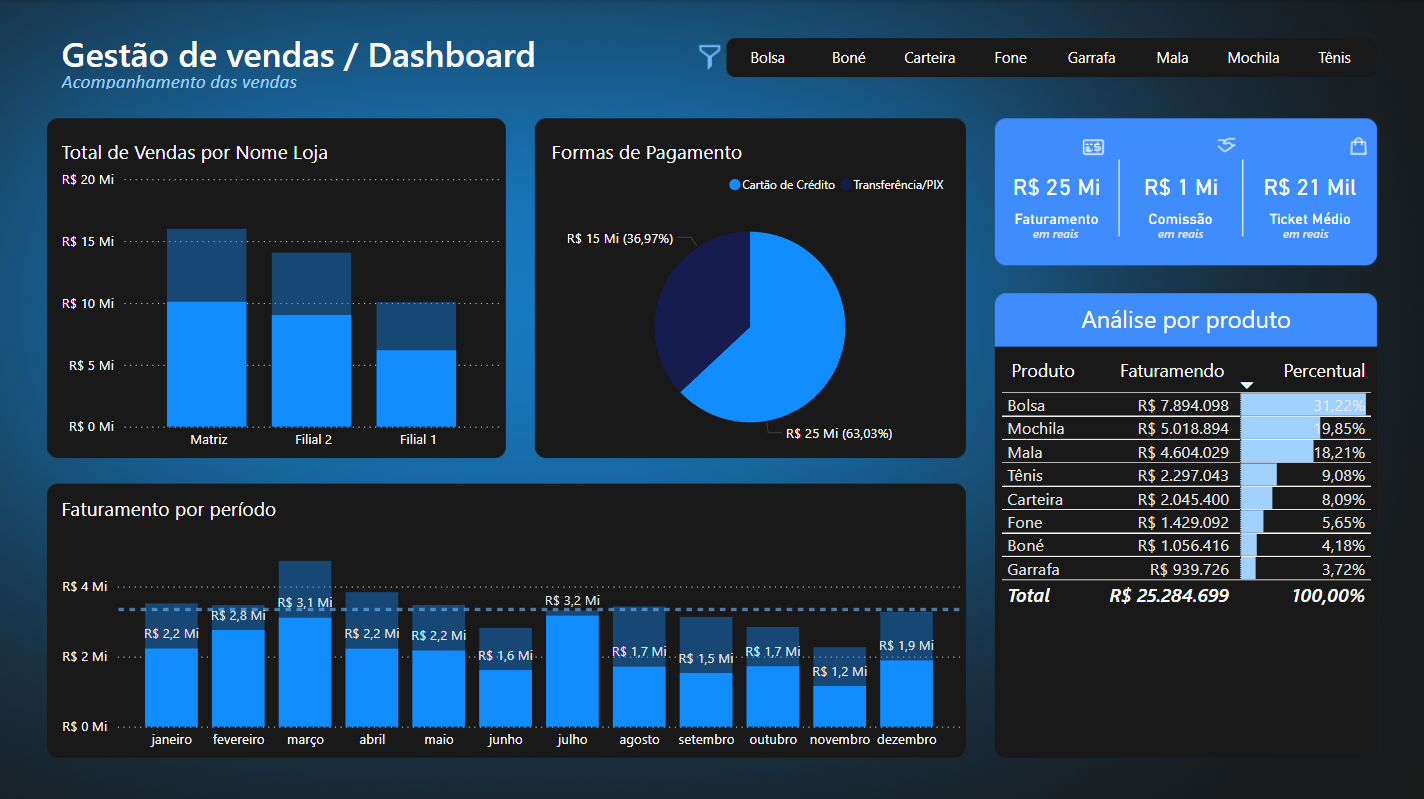

What the dashboard file says about the page in this screenshot:
{"tool":"powerbi","page":{"name":"Página 1","canvas":[1280,720],"ordinal":0},"visuals":[{"type":"card","fields":{"Values":["Sum(registroVendas.Total de Vendas)"]},"box":[892.4,150.8,112.2,34.1],"z":0},{"type":"card","fields":{"Values":["Avg(registroVendas.Total de Vendas)"]},"box":[1115.9,150.8,120.3,34.1],"z":1000},{"type":"clusteredColumnChart","title":"Faturamento por período","fields":{"Y":["Sum(registroVendas.Total de Vendas)"],"Category":["registroVendas.Data Pedido.Variation.Hierarquia de datas.Mês"]},"box":[50.3,444.4,817,237.9],"z":2000},{"type":"pieChart","title":"Formas de Pagamento","fields":{"Y":["Sum(registroVendas.Total de Vendas)"],"Category":["Vendas.Pagamento"]},"box":[490.2,123.9,366.3,289.1],"z":3000},{"type":"columnChart","title":" Total de Vendas por Nome Loja","fields":{"Category":["Lojas.Nome Loja"],"Y":["Sum(Vendas.Total de Vendas)"]},"box":[50.3,123.9,405.8,289.1],"z":4000},{"type":"tableEx","fields":{"Values":["Vendas.Produto","Sum(Vendas.Total de Vendas)","Divide(Sum(Vendas.Total de Vendas), ScopedEval(Sum(Vendas.Total de Vendas), []))"]},"box":[893.3,316,342.9,255.9],"z":5000},{"type":"slicer","fields":{"Values":["Vendas.Produto"]},"box":[660,36.8,600.6,27.8],"z":6000},{"type":"textbox","title":"Gestão de vendas / Dashboard","box":[50,27,511.7,49.4],"z":7000},{"type":"textbox","title":"Acompanhamento das vendas","box":[50.3,62,238.8,18],"z":8000},{"type":"card","fields":{"Values":["Vendas.Comissão"]},"box":[1004.6,150.8,111.3,34.1],"z":9000},{"type":"textbox","title":"Faturamento","box":[892.4,189.4,112.2,18.9],"z":10000},{"type":"textbox","title":"Comissão","box":[1003.7,189.4,112.2,18.9],"z":11000},{"type":"textbox","title":"Ticket Médio","box":[1115.9,189.4,120.3,18.9],"z":12000},{"type":"textbox","title":"em reais","box":[891.5,202,112.2,12.6],"z":13000},{"type":"textbox","title":"em reais","box":[1003.7,202,112.2,12.6],"z":14000},{"type":"textbox","title":"em reais","box":[1115.9,202,112.2,12.6],"z":15000},{"type":"textbox","title":"Filtros","box":[622,38.6,61.9,25.1],"z":16000},{"type":"textbox","title":"Análise por produto","box":[893.3,274,342.9,35],"z":17000}]}

Visuals, with their boxes in screenshot pixels (x1, y1, x2, y2), scaled from the page's 1280x720 canvas onto the 1424x799 screenshot:
card - Sum(registroVendas.Total de Vendas): bbox(993, 167, 1118, 205)
card - Avg(registroVendas.Total de Vendas): bbox(1241, 167, 1375, 205)
"Faturamento por período" clusteredColumnChart: bbox(56, 493, 965, 757)
"Formas de Pagamento" pieChart: bbox(545, 137, 953, 458)
" Total de Vendas por Nome Loja" columnChart: bbox(56, 137, 507, 458)
tableEx - Vendas.Produto x Sum(Vendas.Total de Vendas): bbox(994, 351, 1375, 635)
slicer - Vendas.Produto: bbox(734, 41, 1402, 72)
"Gestão de vendas / Dashboard" textbox: bbox(56, 30, 625, 85)
"Acompanhamento das vendas" textbox: bbox(56, 69, 322, 89)
card - Vendas.Comissão: bbox(1118, 167, 1241, 205)
"Faturamento" textbox: bbox(993, 210, 1118, 231)
"Comissão" textbox: bbox(1117, 210, 1241, 231)
"Ticket Médio" textbox: bbox(1241, 210, 1375, 231)
"em reais" textbox: bbox(992, 224, 1117, 238)
"em reais" textbox: bbox(1117, 224, 1241, 238)
"em reais" textbox: bbox(1241, 224, 1366, 238)
"Filtros" textbox: bbox(692, 43, 761, 71)
"Análise por produto" textbox: bbox(994, 304, 1375, 343)
